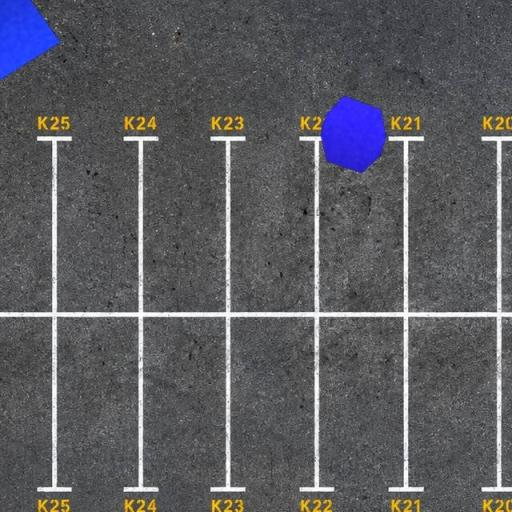BLUE_SQUARE: (0, 0, 62, 91)
